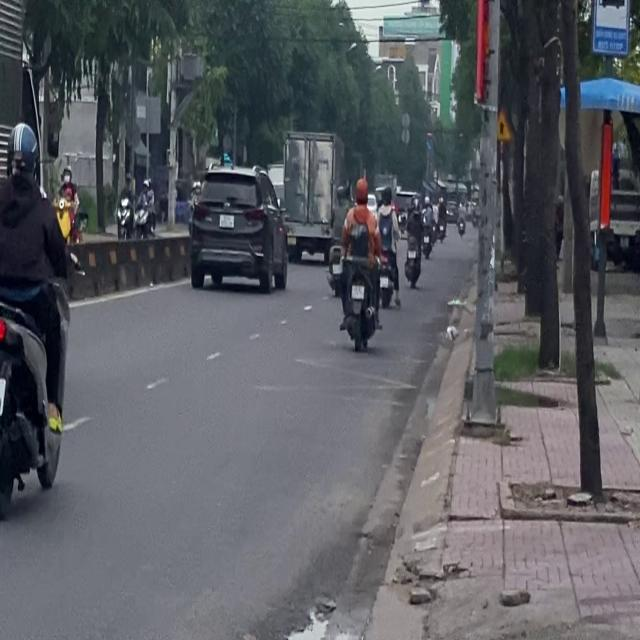helmet: (6, 121, 38, 182)
licenseplate: (0, 119, 73, 518)
nohelmet: (0, 376, 4, 411)
